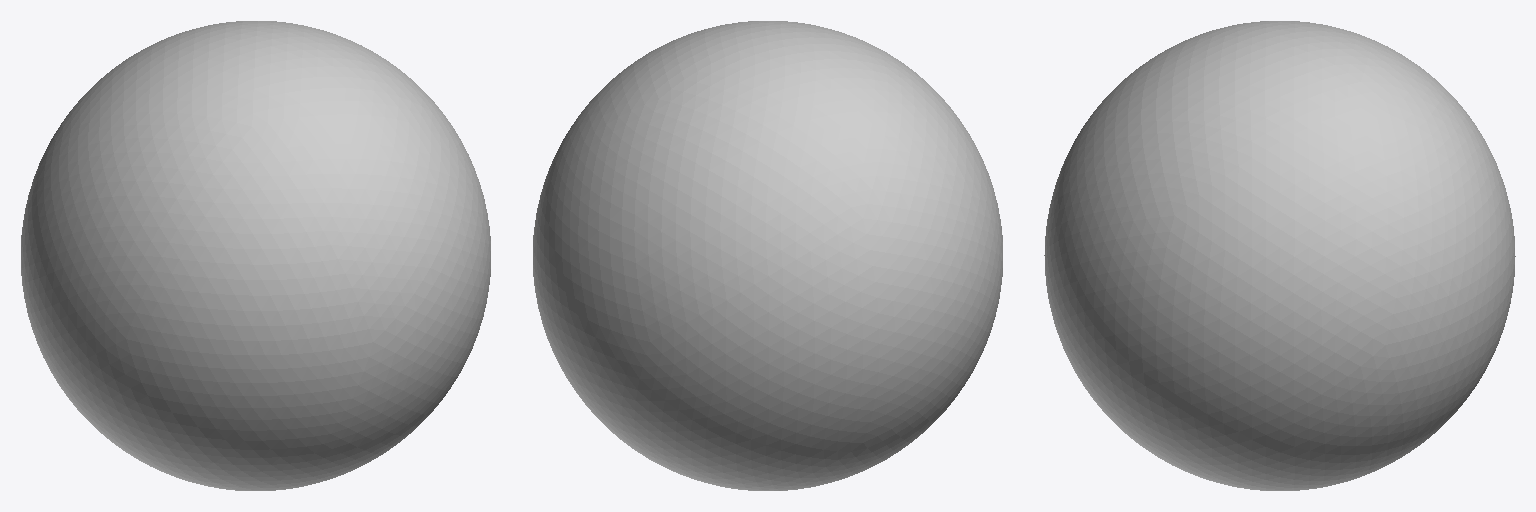
File: qiu1.obj
The picture shows the model from 3 angles: view 1: azimuth 30°, elevation 25°; view 2: azimuth 150°, elevation 25°; view 3: azimuth 270°, elevation 25°; orthographic projection.
Visible parts, largest first — view 1: Object.1; view 2: Object.1; view 3: Object.1.
Part boxes in pixels (bbox=[...]): Object.1: bbox=[21, 21, 490, 490]; Object.1: bbox=[533, 21, 1002, 490]; Object.1: bbox=[1044, 21, 1515, 490].
Size of the model in its own units: 4 by 4 by 4.